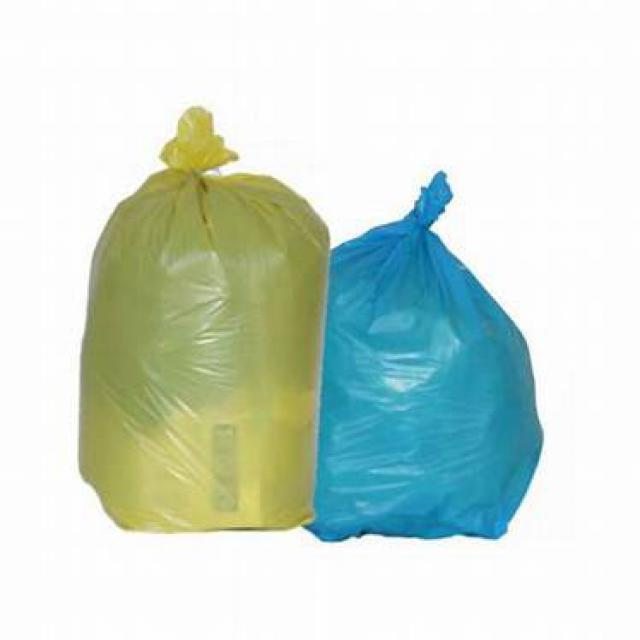waste: (81, 114, 326, 522), (323, 172, 522, 534)
